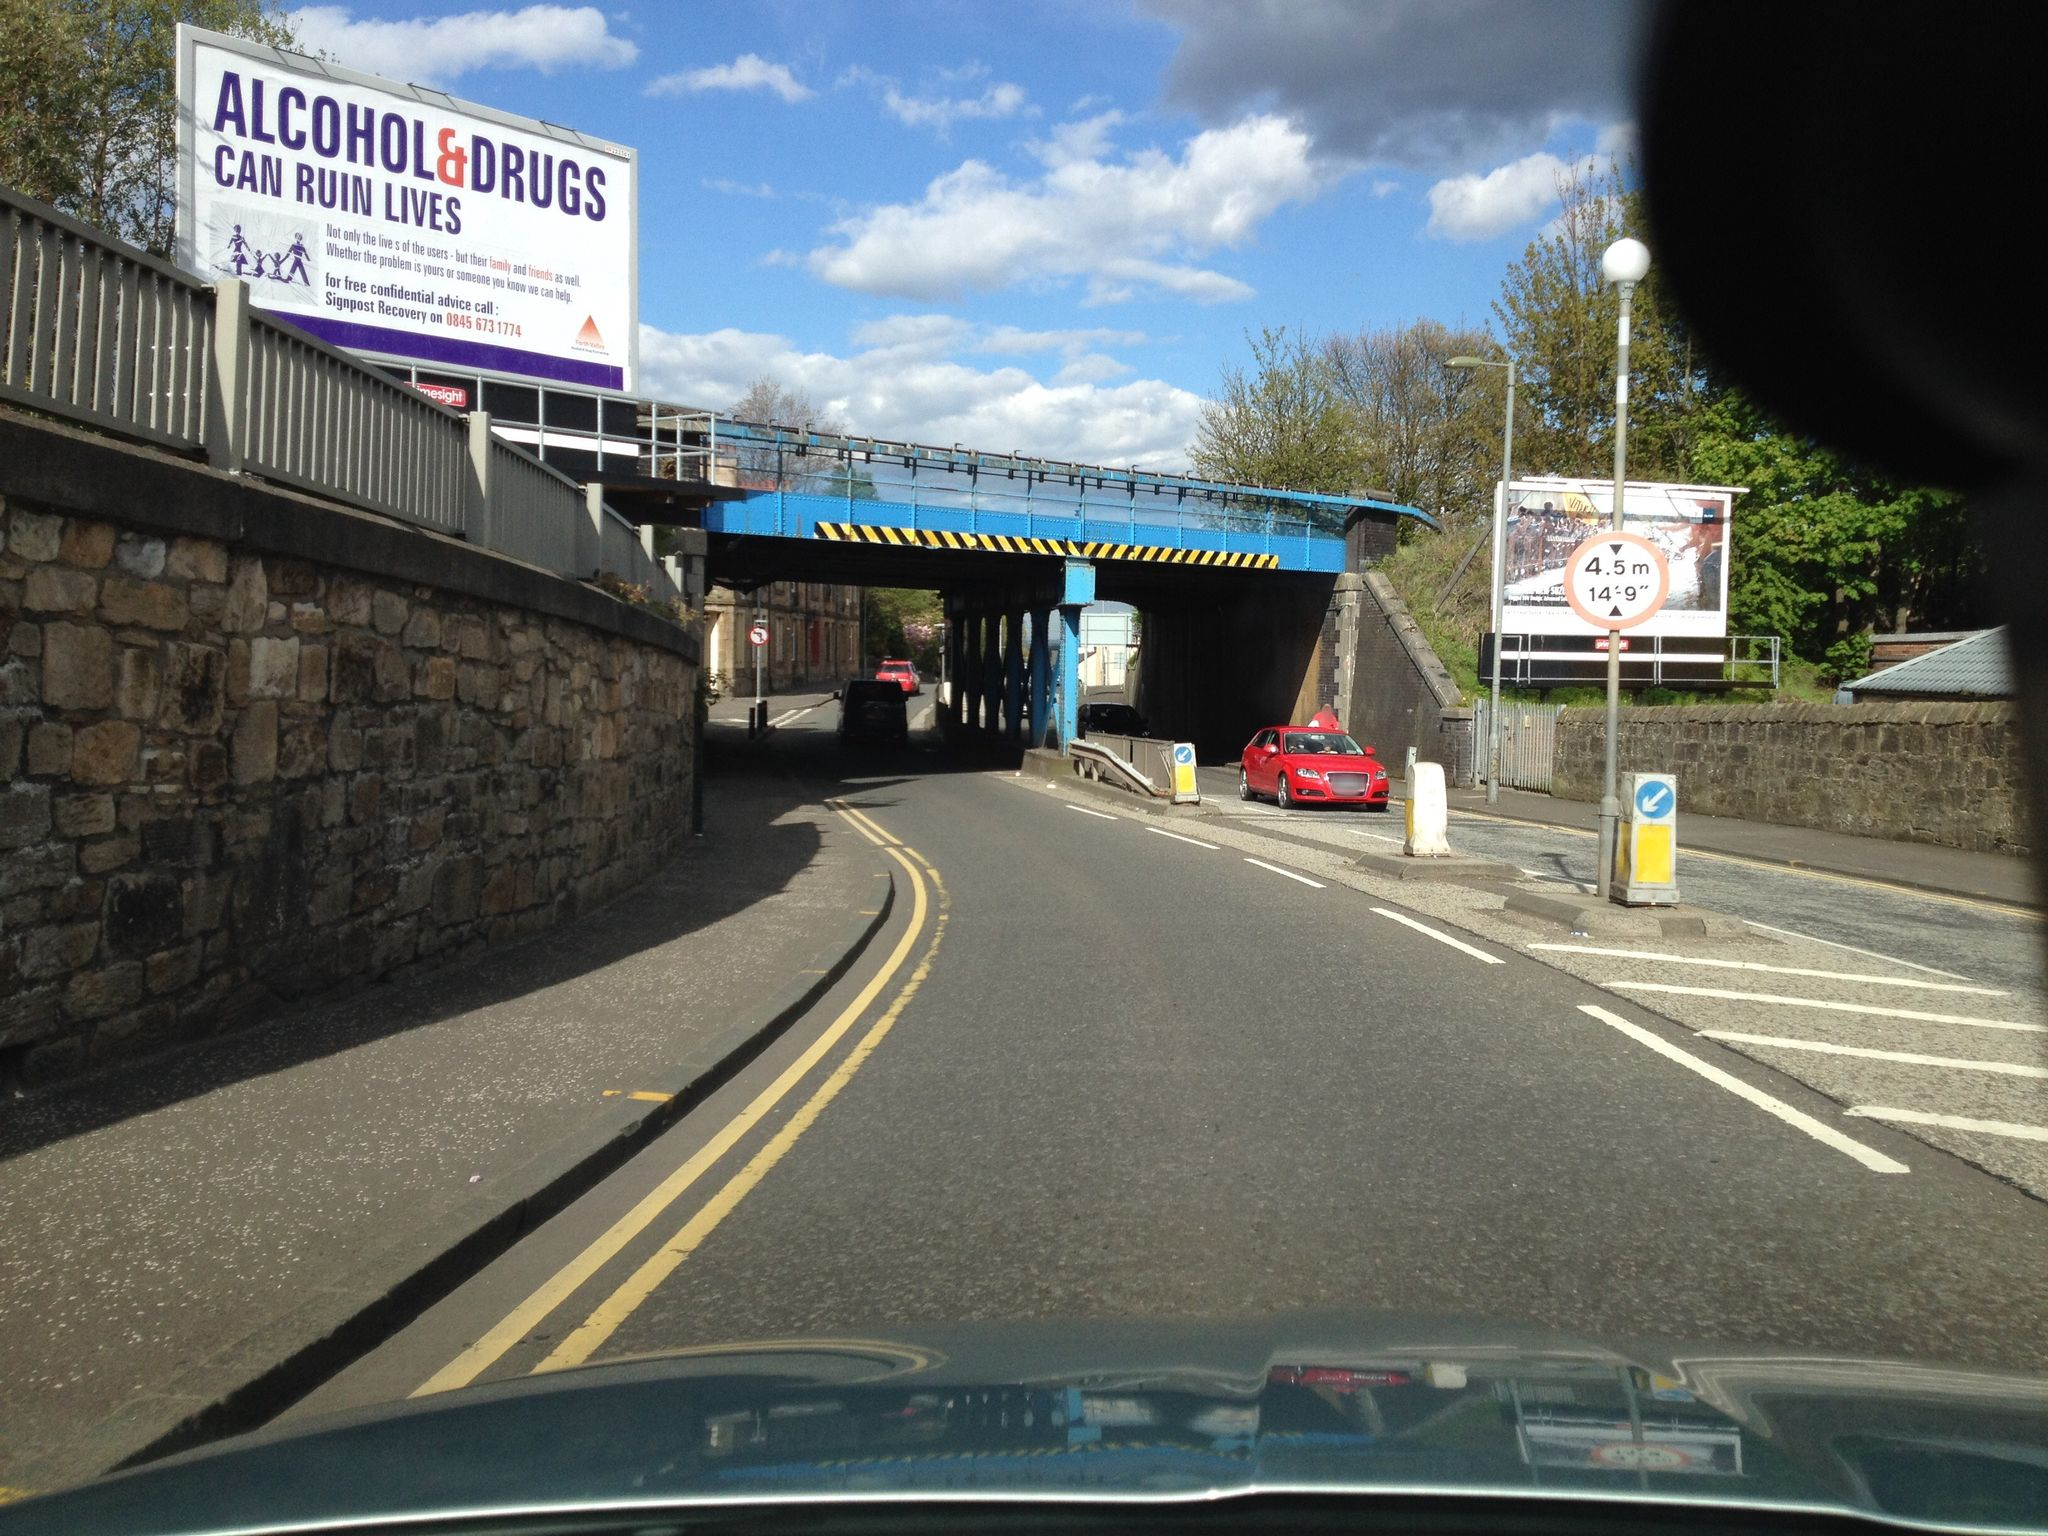car: (1238, 724, 1390, 810), (832, 678, 906, 749), (876, 658, 921, 695)
